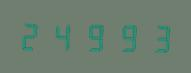four: (49, 19, 79, 52)
nine: (80, 19, 110, 53), (111, 20, 141, 53)
three: (142, 20, 172, 54)
two: (18, 18, 48, 52)
